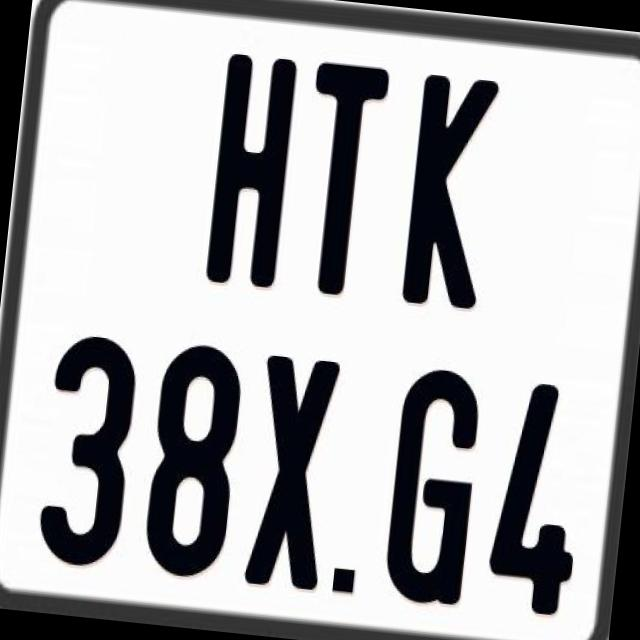3: (31, 332, 142, 576)
4: (482, 378, 590, 619)
8: (138, 339, 246, 586)
G: (378, 366, 482, 608)
H: (204, 50, 299, 291)
K: (398, 68, 498, 310)
T: (289, 61, 393, 304)
X: (239, 354, 337, 598)
